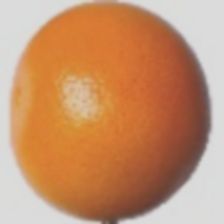grapes: (53, 0, 201, 201)
